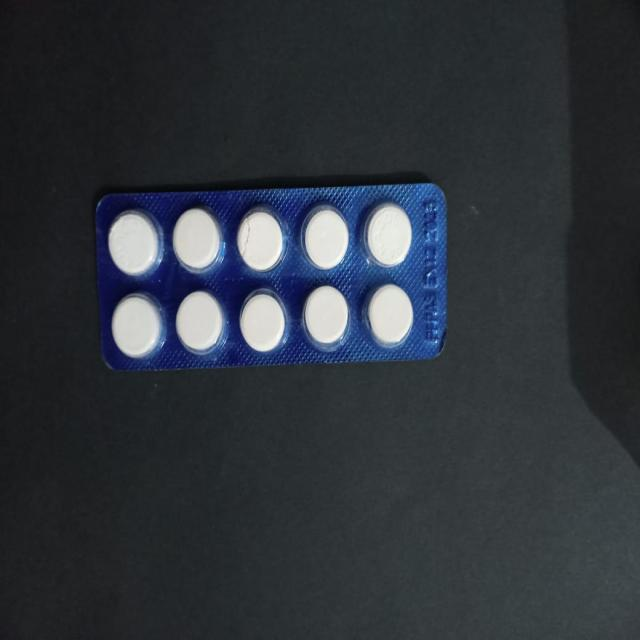defect: (236, 203, 289, 274)
